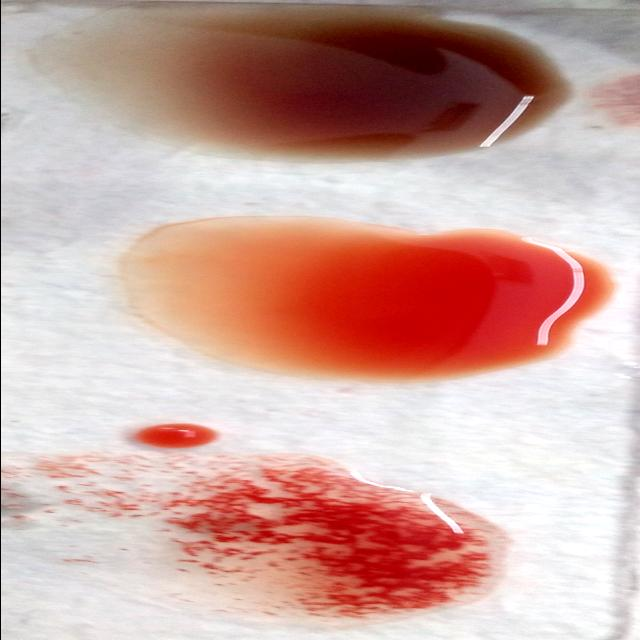D: (43, 456, 510, 622)
